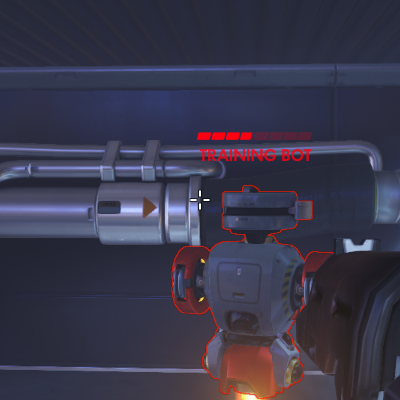hpbar: (196, 131, 313, 141)
